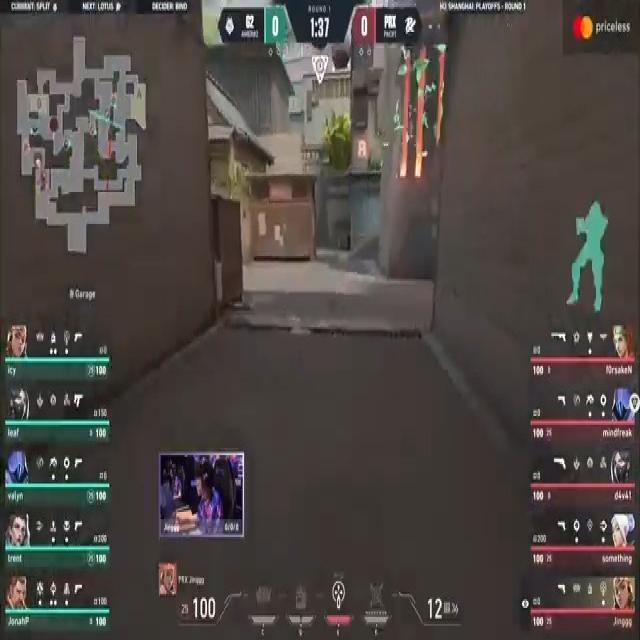ally behind wall: (566, 195, 608, 314)
